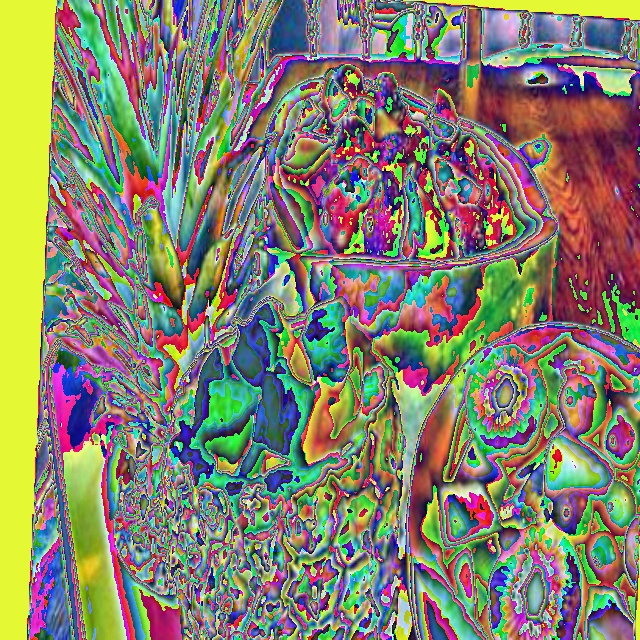background: (46, 0, 639, 640)
